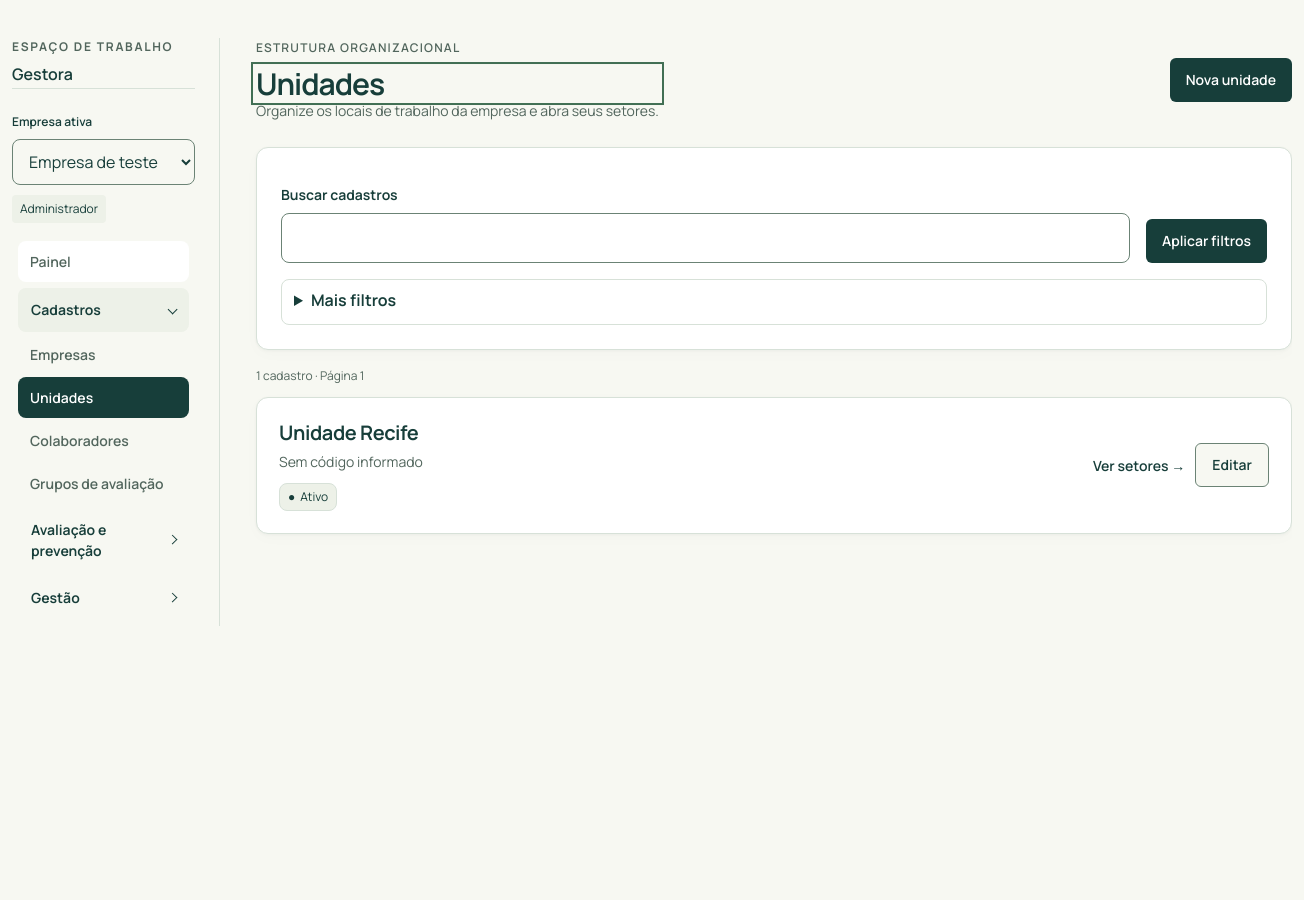
it: aplica uma nova busca, reinicia a página e explica o impacto da desativação
In the search field labelled "Buscar cadastros": (705, 238) [281,213,1130,263], type "Recife"
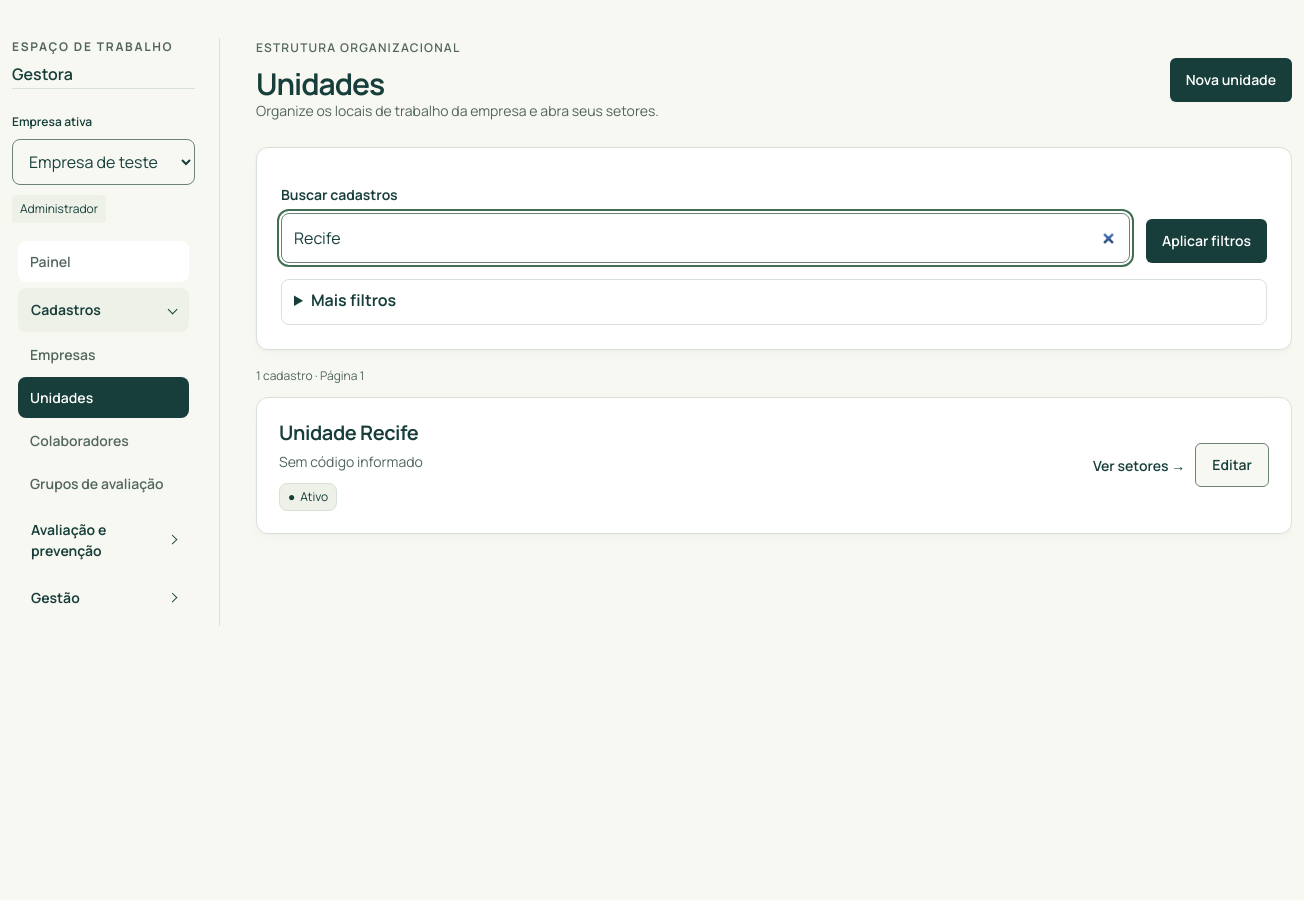
Click the button "Aplicar filtros": (1206, 241) [1146,219,1267,263]
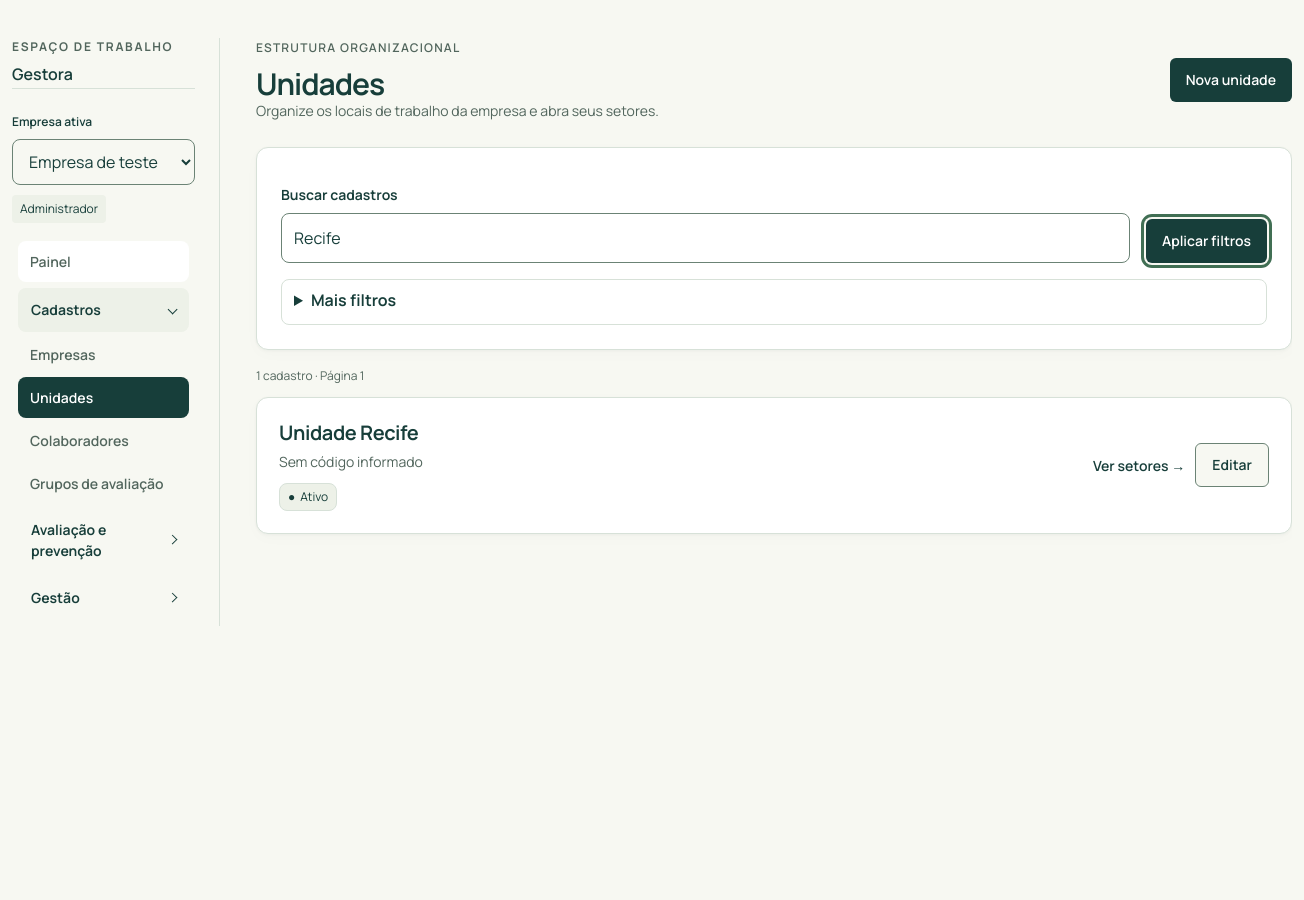
Click the button with aria-label "Editar unidade Unidade Recife": (1232, 466) [1195,444,1269,488]
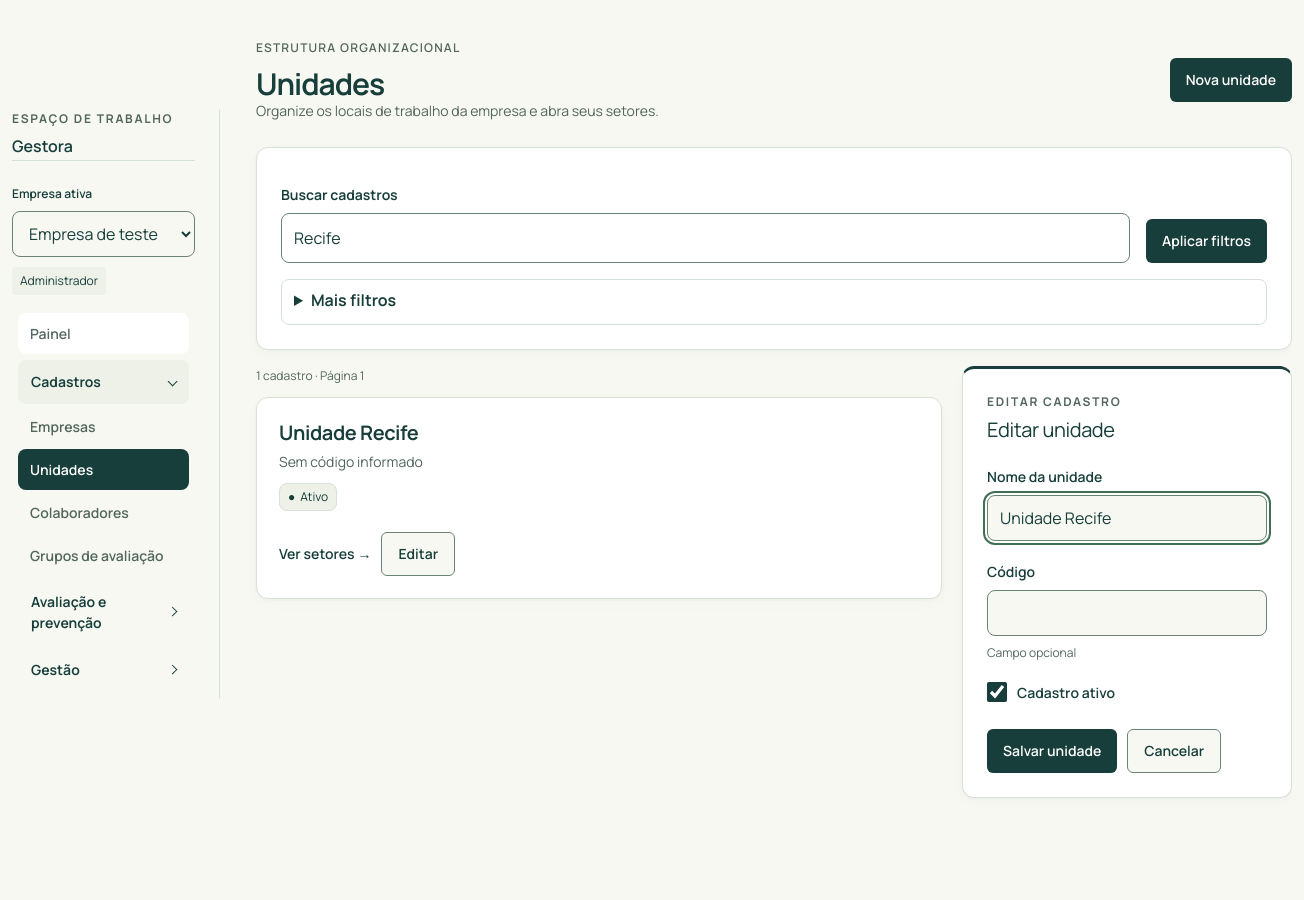
Click the checkbox labelled "Cadastro ativo": (997, 692) [987,682,1007,702]
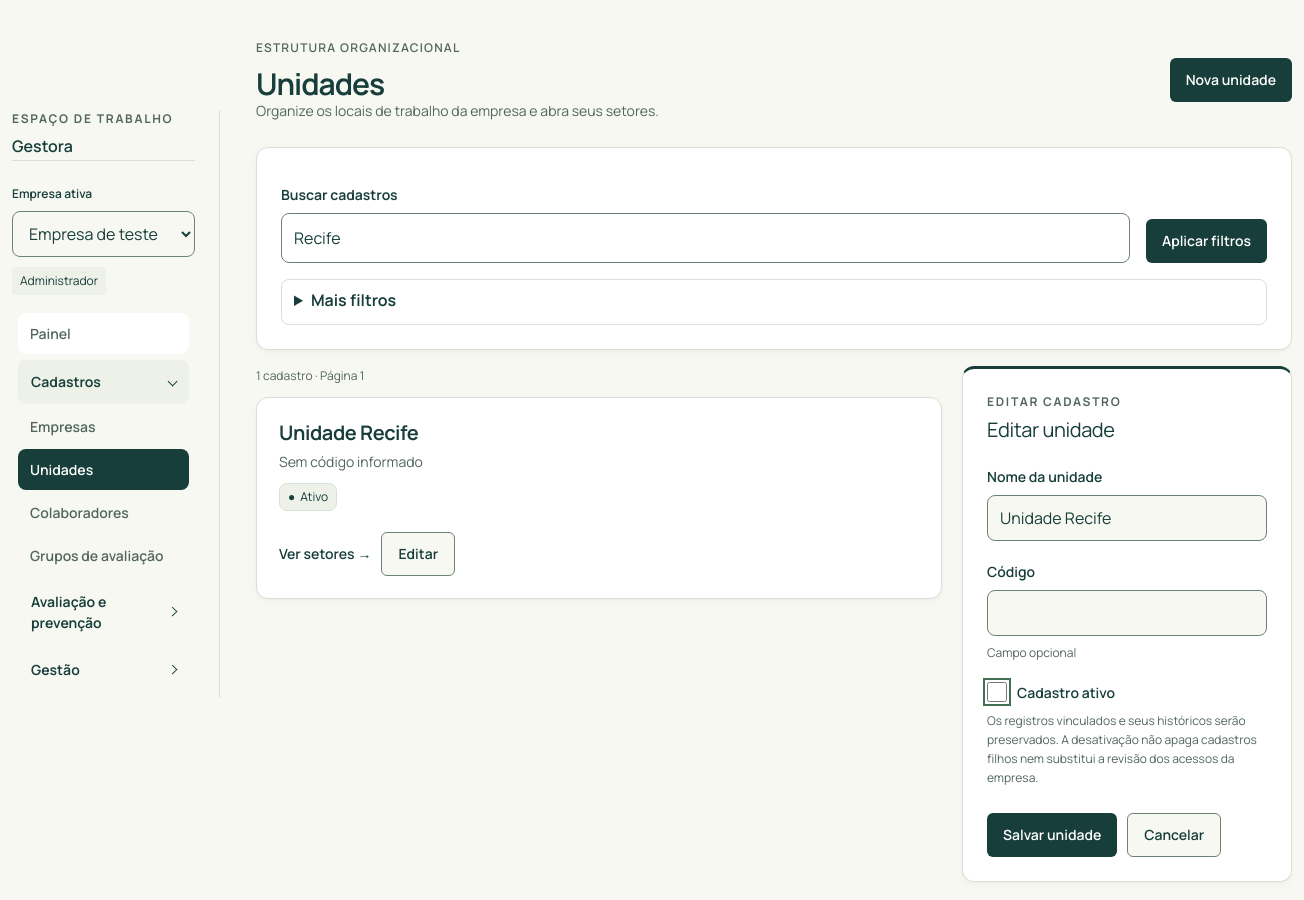
Expected: the text "Os registros vinculados e seus históricos serão preservados" is shown, [987,712,1257,786]
